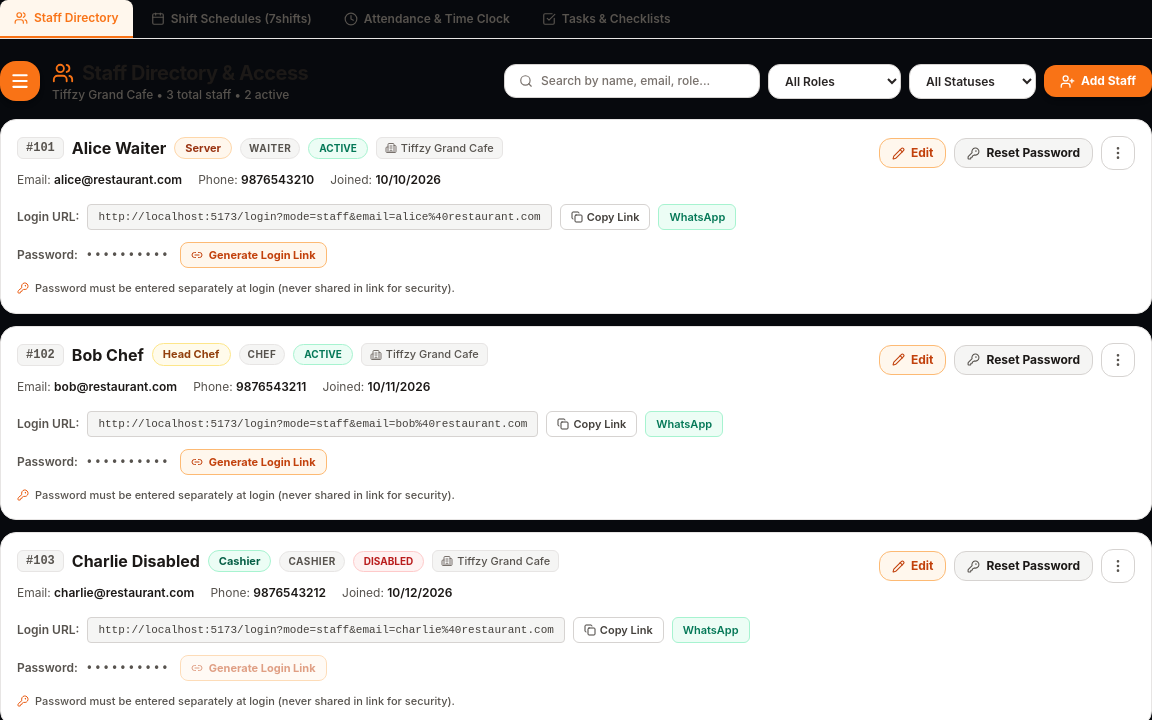
Test case: Phase 2 — OwnerStaff Management Component › 3. Filters staff by role dropdown
The image size is (1152, 720).
Expected: the text "Alice Waiter" is shown, [72,136,166,160]
Select "Chef" in the dropdown named "filter staff by role" at (834, 81), box [768,64,901,98]
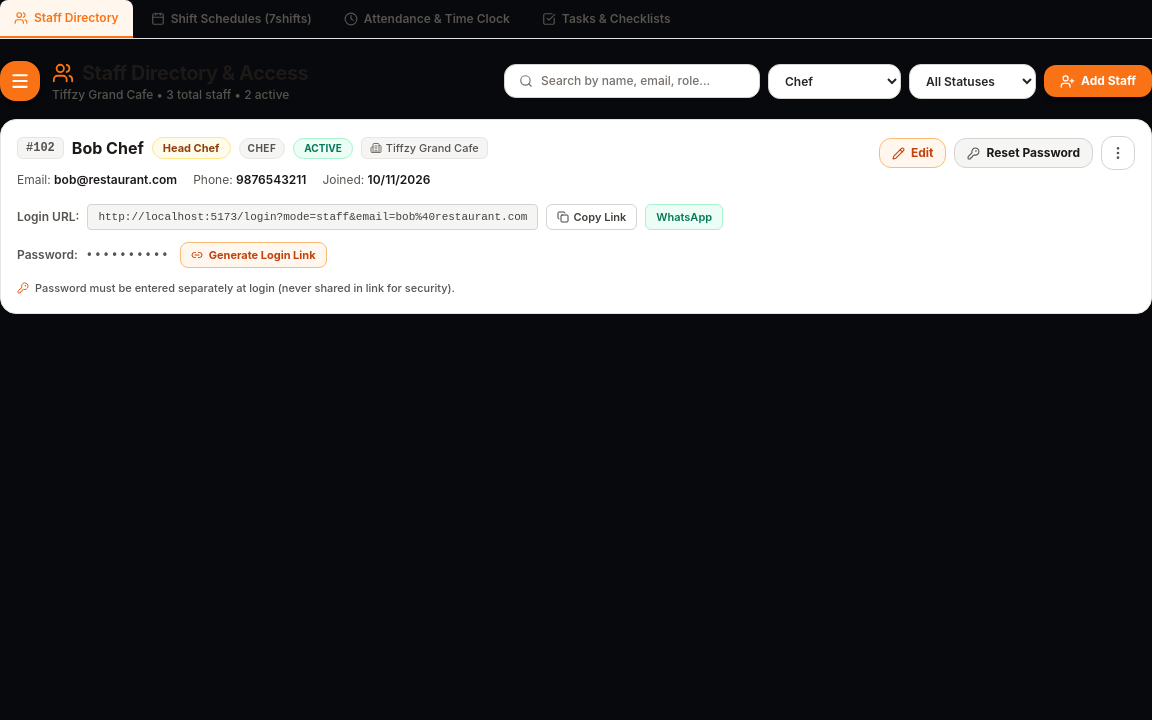
Expected: the text "Bob Chef" is shown, [72,136,144,160]
Expected: the text "Alice Waiter" is gone
